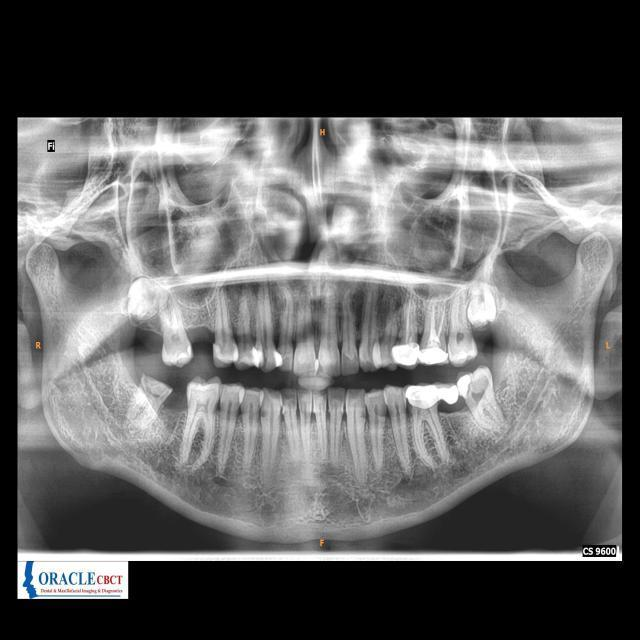dentin-curugu: (474, 374, 491, 402), (464, 331, 477, 348)
dolgu: (455, 370, 474, 396)
kanal-tedavisi: (427, 302, 447, 346), (404, 296, 416, 346)
kaplama: (407, 387, 442, 408), (420, 345, 450, 368), (392, 342, 420, 366)
kopru: (435, 377, 461, 416)
